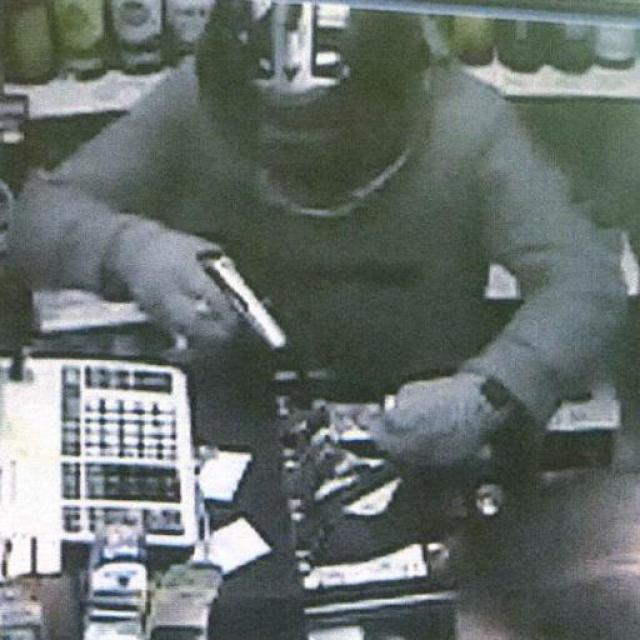pistol: (150, 249, 295, 353)
